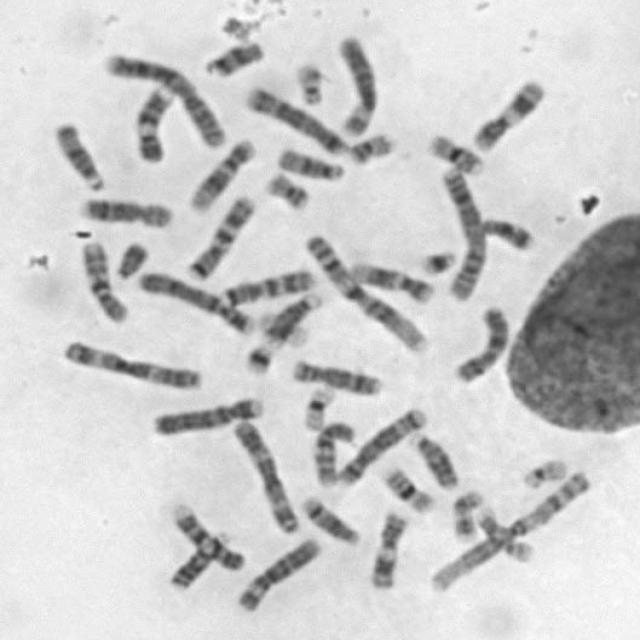A1: (423, 466, 594, 594), (299, 228, 429, 354)
A2: (98, 48, 229, 150), (433, 161, 489, 302)
A3: (228, 412, 302, 535), (57, 333, 206, 392)
B4: (133, 265, 258, 336), (148, 390, 268, 437)
B5: (239, 80, 351, 158), (332, 401, 430, 487)
C10: (74, 235, 132, 325), (308, 416, 361, 488)
C11: (467, 72, 549, 153), (364, 506, 410, 592)
C12: (184, 131, 260, 214), (345, 253, 438, 304)
C6: (230, 530, 324, 614), (332, 28, 381, 138)
C7: (180, 188, 259, 283), (218, 263, 319, 307)
C8: (287, 353, 386, 398), (75, 190, 178, 230)
C9: (167, 497, 248, 572), (129, 80, 178, 164)
D13: (165, 526, 232, 591), (404, 426, 461, 490)
D14: (260, 286, 326, 346), (295, 489, 363, 547)
D15: (48, 116, 108, 192), (272, 142, 347, 181)
E16: (376, 459, 438, 514), (422, 127, 488, 177)
E17: (470, 501, 538, 565), (446, 483, 486, 542)
E18: (198, 33, 268, 78), (475, 210, 536, 252)
F19: (252, 306, 310, 349), (296, 379, 339, 432)
F20: (260, 165, 313, 212), (344, 126, 398, 166)
G21: (238, 338, 278, 377), (415, 242, 460, 276)
G22: (517, 452, 571, 490), (289, 56, 327, 106)
X: (449, 300, 513, 385)
Y: (110, 236, 151, 280)
